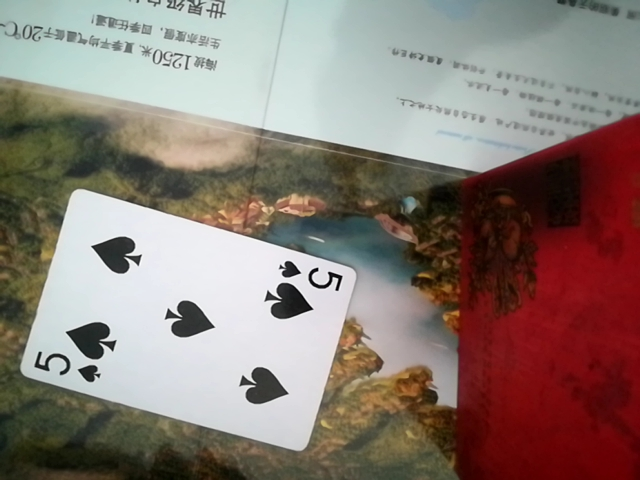ht 5: (13, 190, 364, 457)
